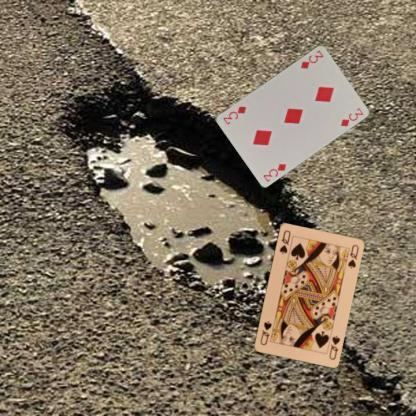3d: (260, 160, 288, 183), (298, 47, 324, 70)
Qs: (326, 332, 341, 360), (277, 228, 292, 255)
